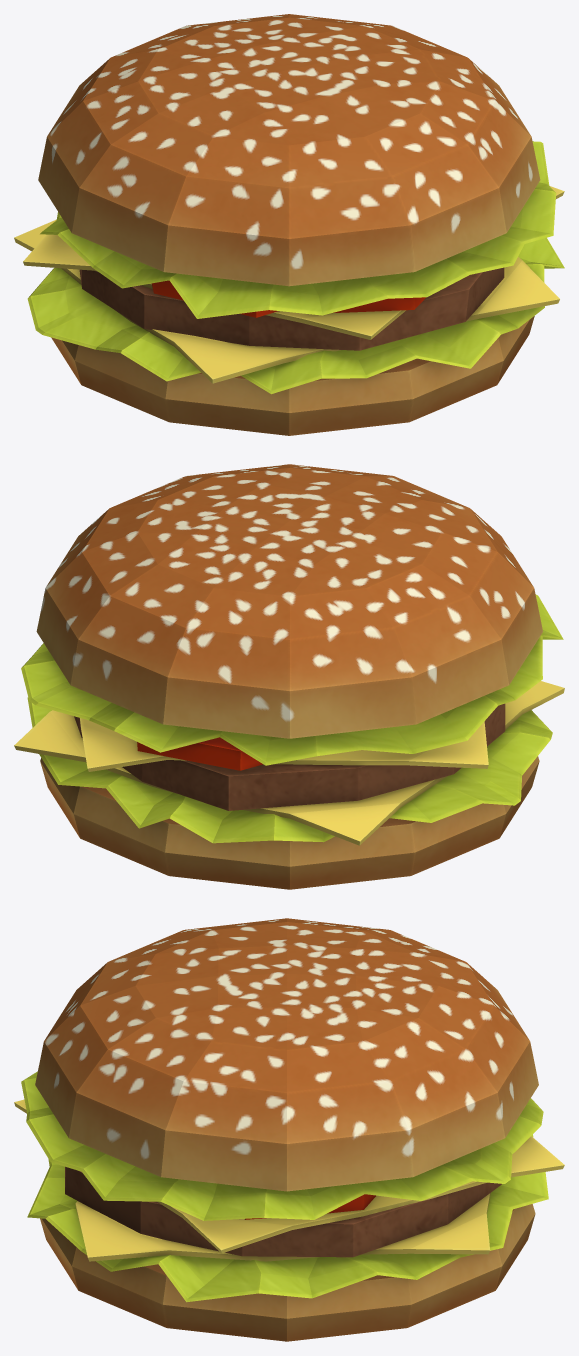
File: single-patty-burger.gltf
The picture shows the model from 3 angles, top to bottom: view 1: azimuth 30°, elevation 25°; view 2: azimuth 150°, elevation 25°; view 3: azimuth 270°, elevation 25°; orthographic projection.
Visible parts, largest first — view 1: Cheeseburger; view 2: Cheeseburger; view 3: Cheeseburger.
Part boxes in pixels (left/top/right/bottom): Cheeseburger: left=14, top=14, right=564, bottom=435; Cheeseburger: left=14, top=464, right=564, bottom=889; Cheeseburger: left=14, top=918, right=564, bottom=1341.
Bounding box in the file's own units: 7.24 × 3.81 × 7.15.
Materials: 2 (2 with a texture image).
